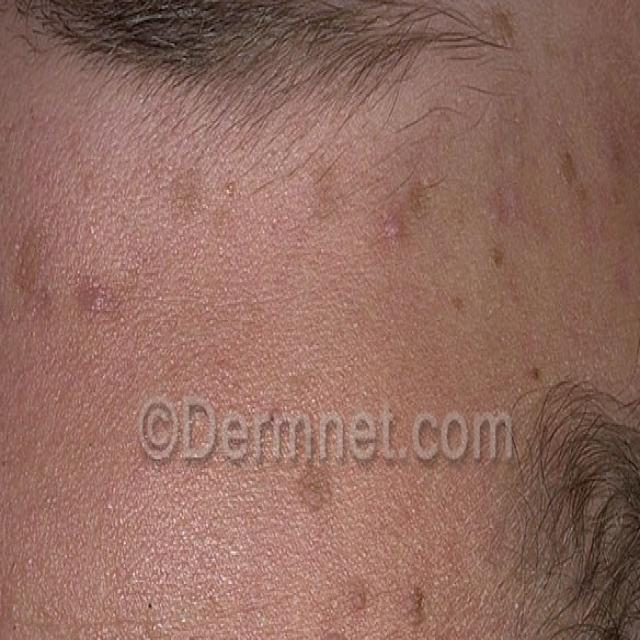Warts: (296, 129, 552, 319), (0, 219, 113, 410), (151, 120, 253, 258), (556, 123, 640, 275), (310, 566, 467, 640), (282, 448, 345, 507)
